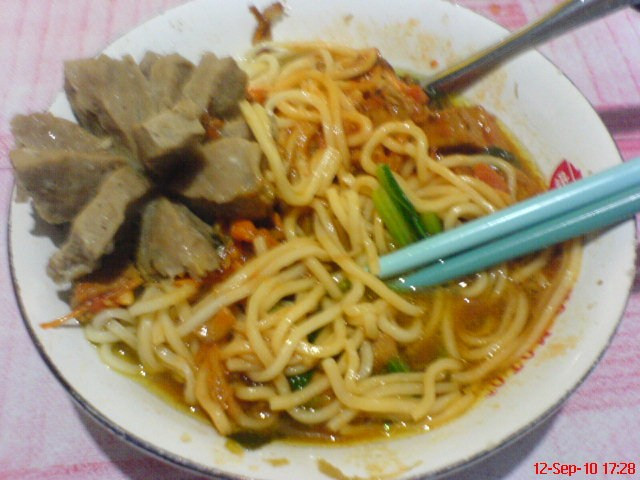Bakso: (110, 79, 534, 433)
